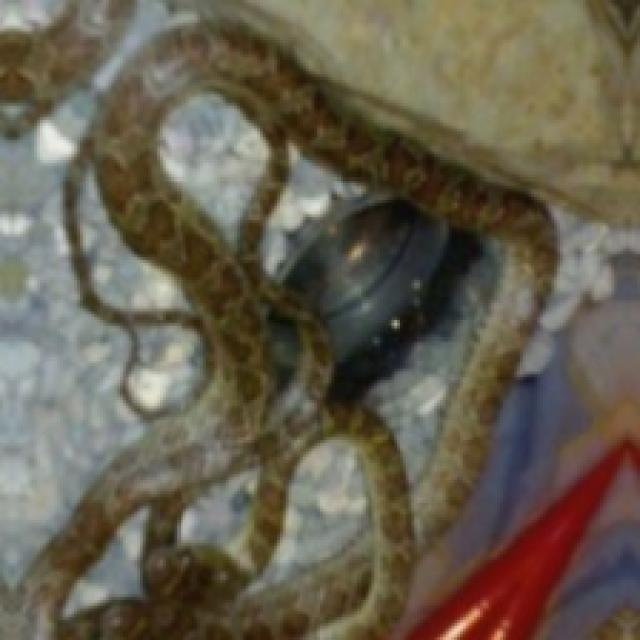mullers wolf snake: (0, 0, 554, 637), (23, 20, 554, 637), (337, 217, 503, 491), (249, 434, 371, 591), (77, 177, 189, 311), (257, 143, 371, 274), (60, 506, 149, 620), (174, 466, 257, 549), (129, 326, 203, 411)
